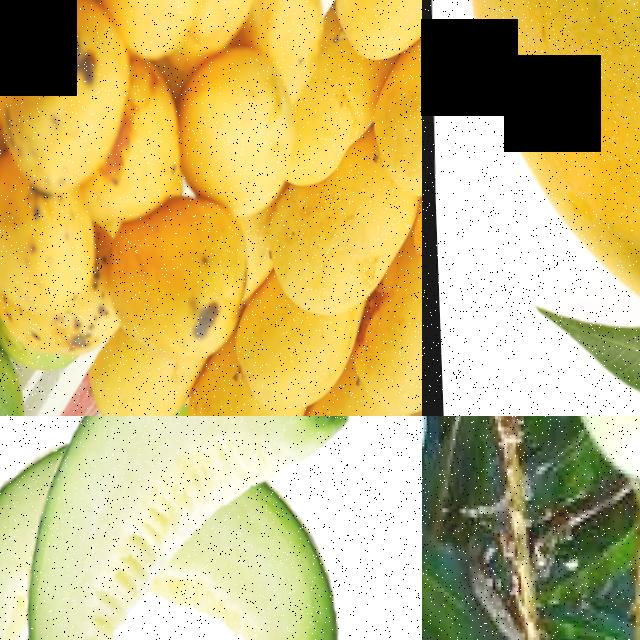mango: (448, 0, 640, 341), (254, 183, 417, 315), (372, 0, 422, 197), (93, 0, 206, 65)
melon: (11, 416, 198, 640), (176, 510, 344, 640)
